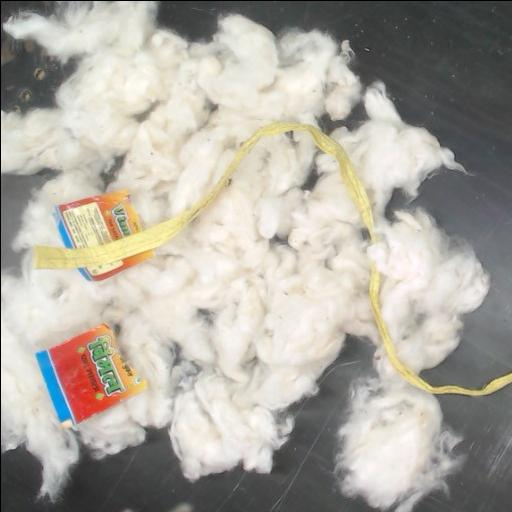conveyor belt: (159, 1, 512, 386), (1, 339, 378, 512), (414, 383, 512, 512), (1, 41, 70, 110), (1, 175, 38, 267), (1, 1, 52, 23)
cotton: (1, 1, 489, 512)
packet: (35, 323, 144, 427), (54, 191, 142, 253), (78, 250, 151, 280)
thread: (34, 121, 378, 268), (370, 261, 512, 395)
